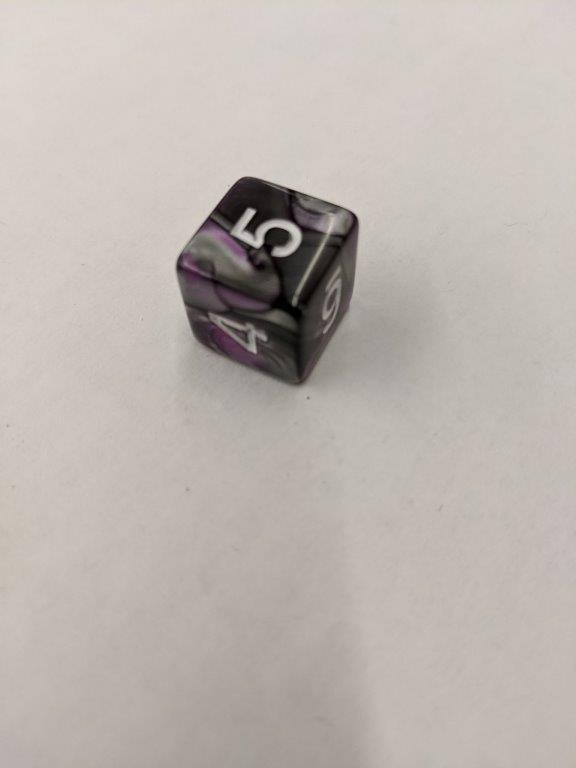d6-5: (174, 177, 362, 388)
